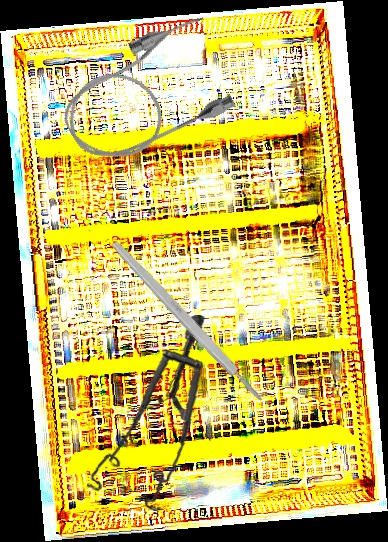Cannula: (46, 8, 246, 179)
Scalpel Handle: (108, 238, 266, 405)
Speculum: (71, 314, 223, 517)
